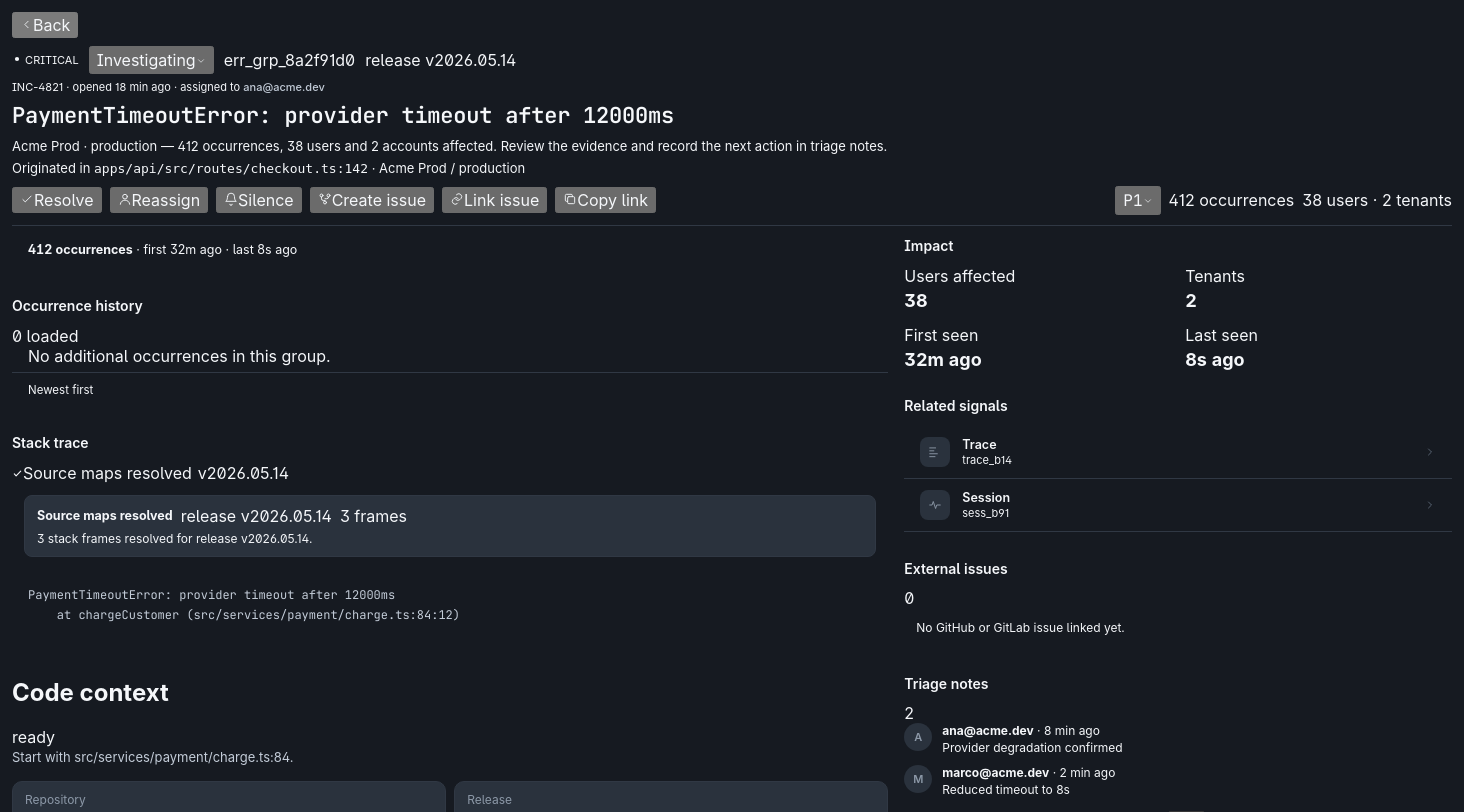
Test: IncidentScreen › action bar — priority / occurrence tags › opens a priority menu with P1-P4 and 'No priority' options when the priority control is clicked
Click the button named "priority: p1" at [1138, 200], box [1115, 186, 1160, 214]
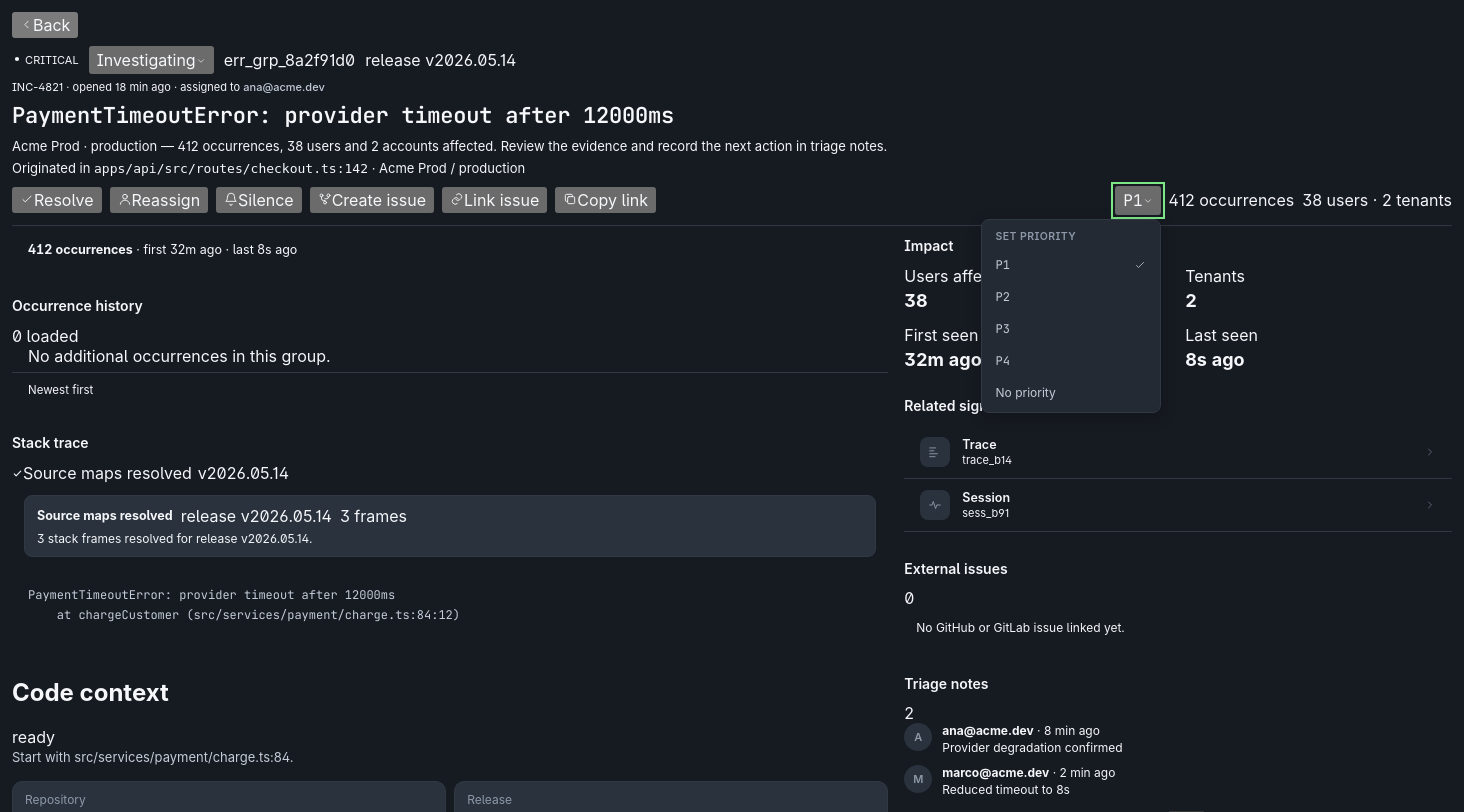
Result: the button "P1" below "Set priority" is shown at [982, 248, 1160, 280]
Result: the button "P2" is shown at [982, 280, 1160, 312]
Result: the button "P3" is shown at [982, 312, 1160, 344]
